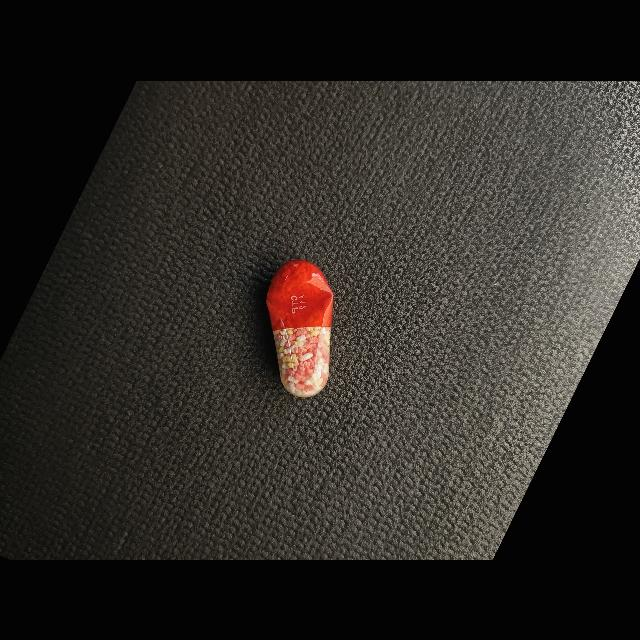Defective Capsule: (266, 259, 333, 397)
